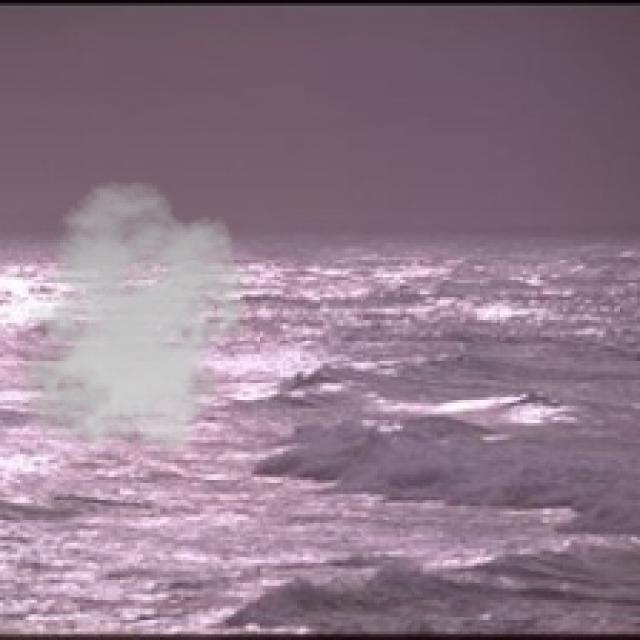smoke: (12, 180, 255, 463)
